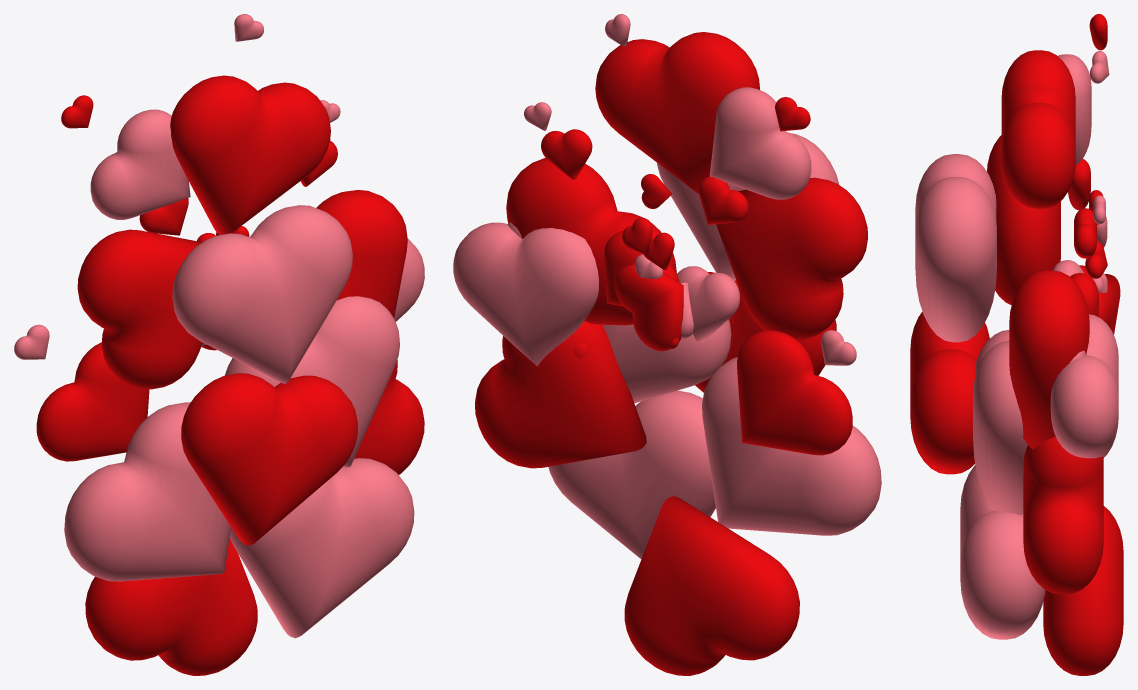
The model's file is jj_hearts.glb.
The picture shows the model from 3 angles, left to right: view 1: azimuth 30°, elevation 25°; view 2: azimuth 150°, elevation 25°; view 3: azimuth 270°, elevation 25°; orthographic projection.
Visible parts, largest first — view 1: heartOriginal.020, heartOriginal.015, heartOriginal.024, heartOriginal.023, heartOriginal.002, heartOriginal.018, heartOriginal.011, heartOriginal.021, heartOriginal.013, heartOriginal.025, heartOriginal.019, heartOriginal.016 (+5 smaller); view 2: heartOriginal.018, heartOriginal.016, heartOriginal.024, heartOriginal.011, heartOriginal.002, heartOriginal.022, heartOriginal.023, heartOriginal.013, heartOriginal.019, heartOriginal.025, heartOriginal.021, heartOriginal.017 (+11 smaller); view 3: heartOriginal.020, heartOriginal.016, heartOriginal.002, heartOriginal.019, heartOriginal.023, heartOriginal.015, heartOriginal.018, heartOriginal.021, heartOriginal.022, heartOriginal.011, heartOriginal.025, heartOriginal.007 (+7 smaller).
Boxes of the visible parts, bbox=[...] form: heartOriginal.020: bbox=[172, 205, 352, 383]; heartOriginal.015: bbox=[181, 373, 357, 545]; heartOriginal.024: bbox=[64, 402, 231, 581]; heartOriginal.023: bbox=[230, 458, 414, 638]; heartOriginal.002: bbox=[170, 75, 330, 234]; heartOriginal.018: bbox=[85, 537, 257, 675]; heartOriginal.011: bbox=[77, 229, 202, 389]; heartOriginal.021: bbox=[224, 296, 399, 467]; heartOriginal.013: bbox=[36, 342, 149, 461]; heartOriginal.025: bbox=[90, 109, 190, 219]; heartOriginal.019: bbox=[316, 190, 407, 317]; heartOriginal.016: bbox=[354, 360, 424, 474]; heartOriginal.018: bbox=[624, 496, 799, 675]; heartOriginal.016: bbox=[475, 321, 646, 468]; heartOriginal.024: bbox=[702, 357, 881, 535]; heartOriginal.011: bbox=[716, 177, 867, 339]; heartOriginal.002: bbox=[595, 32, 759, 193]; heartOriginal.022: bbox=[453, 222, 598, 366]; heartOriginal.023: bbox=[548, 390, 715, 559]; heartOriginal.013: bbox=[737, 330, 852, 455]; heartOriginal.019: bbox=[506, 157, 676, 325]; heartOriginal.025: bbox=[709, 87, 811, 199]; heartOriginal.021: bbox=[602, 273, 731, 403]; heartOriginal.017: bbox=[614, 265, 683, 351]; heartOriginal.020: bbox=[915, 154, 996, 342]; heartOriginal.016: bbox=[1023, 437, 1103, 594]; heartOriginal.002: bbox=[1001, 50, 1075, 210]; heartOriginal.019: bbox=[1009, 270, 1089, 449]; heartOriginal.023: bbox=[960, 465, 1045, 639]; heartOriginal.015: bbox=[910, 312, 989, 474]; heartOriginal.018: bbox=[1043, 506, 1123, 675]; heartOriginal.021: bbox=[973, 330, 1027, 514]; heartOriginal.022: bbox=[1050, 314, 1118, 458]; heartOriginal.011: bbox=[987, 135, 1060, 305]; heartOriginal.025: bbox=[1058, 54, 1091, 165]; heartOriginal.007: bbox=[1074, 208, 1096, 258].
Size of what is drawn, in the model's own units: 1.94 by 2.98 by 0.8952.
